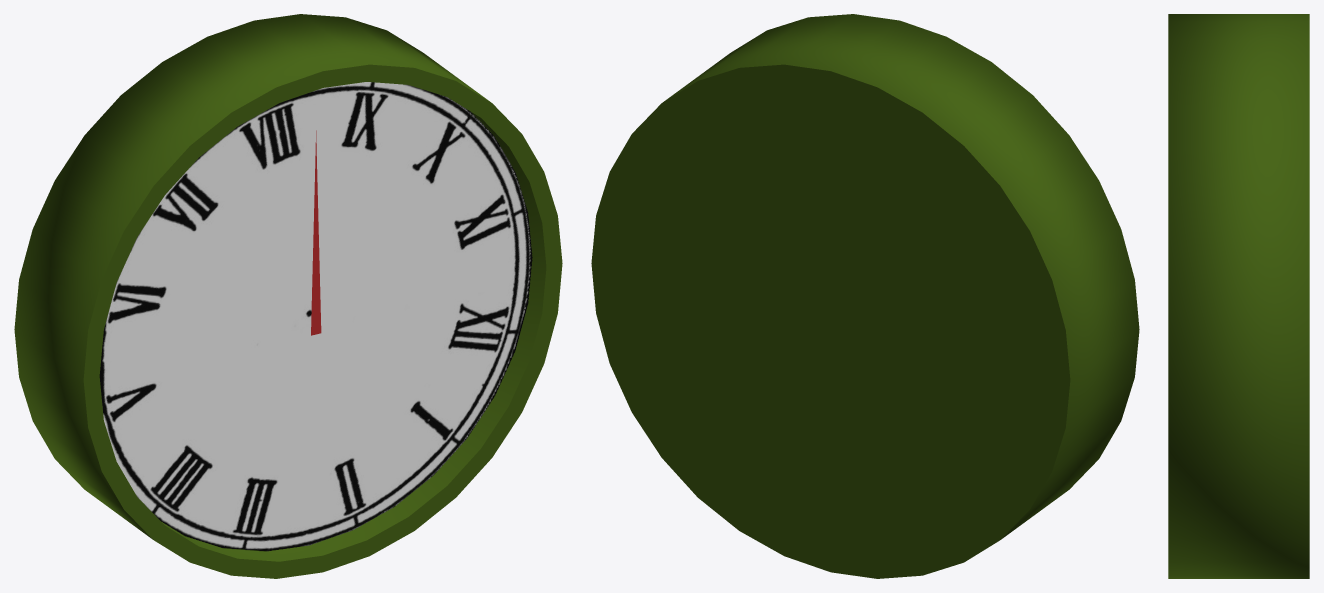
The model's file is ProjectBoost_BonusItem_Time.fbx.
3 views of the same model, side by side, from view 1: azimuth 30°, elevation 25°; view 2: azimuth 150°, elevation 25°; view 3: azimuth 270°, elevation 25° (orthographic). The views are drawn at different scales.
Parts seen in each view (by area): view 1: Time_Item; view 2: Time_Item; view 3: Time_Item.
Part boxes in pixels (x1,y1,x2,y2): Time_Item: [14, 14, 562, 578]; Time_Item: [591, 14, 1139, 578]; Time_Item: [1168, 14, 1309, 578].
Size of the model in its own units: 300 by 300 by 75.
